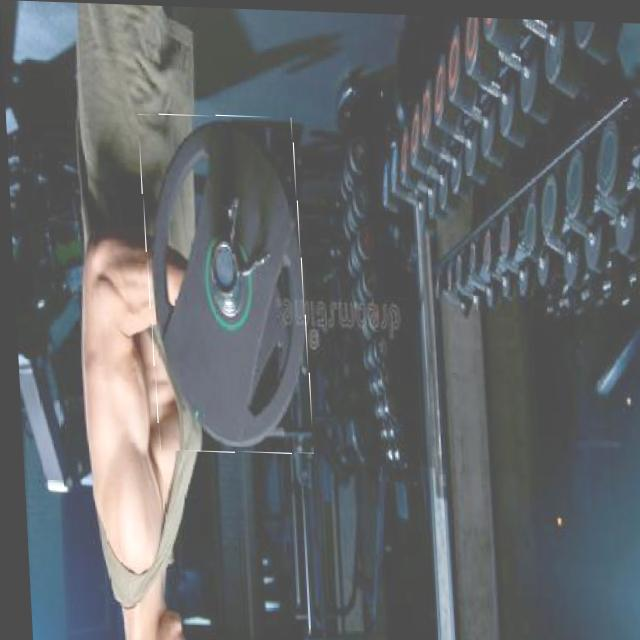barbell: (139, 113, 309, 454)
